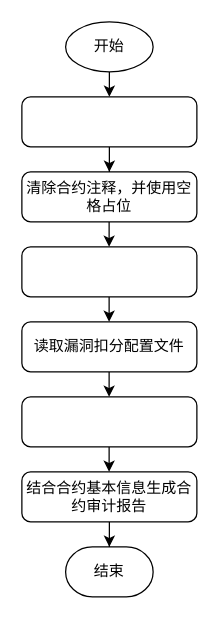
Image size: 219x619. Some labels were removed from this diagram. Each missing label, with the centre of its shape:
"扫描合约中的漏洞，包括信息和警告" goes at (109,271).
"根据配置和扫描结果对合约进行评分评级" goes at (109,421).
"检查合约版本" goes at (109,121).
